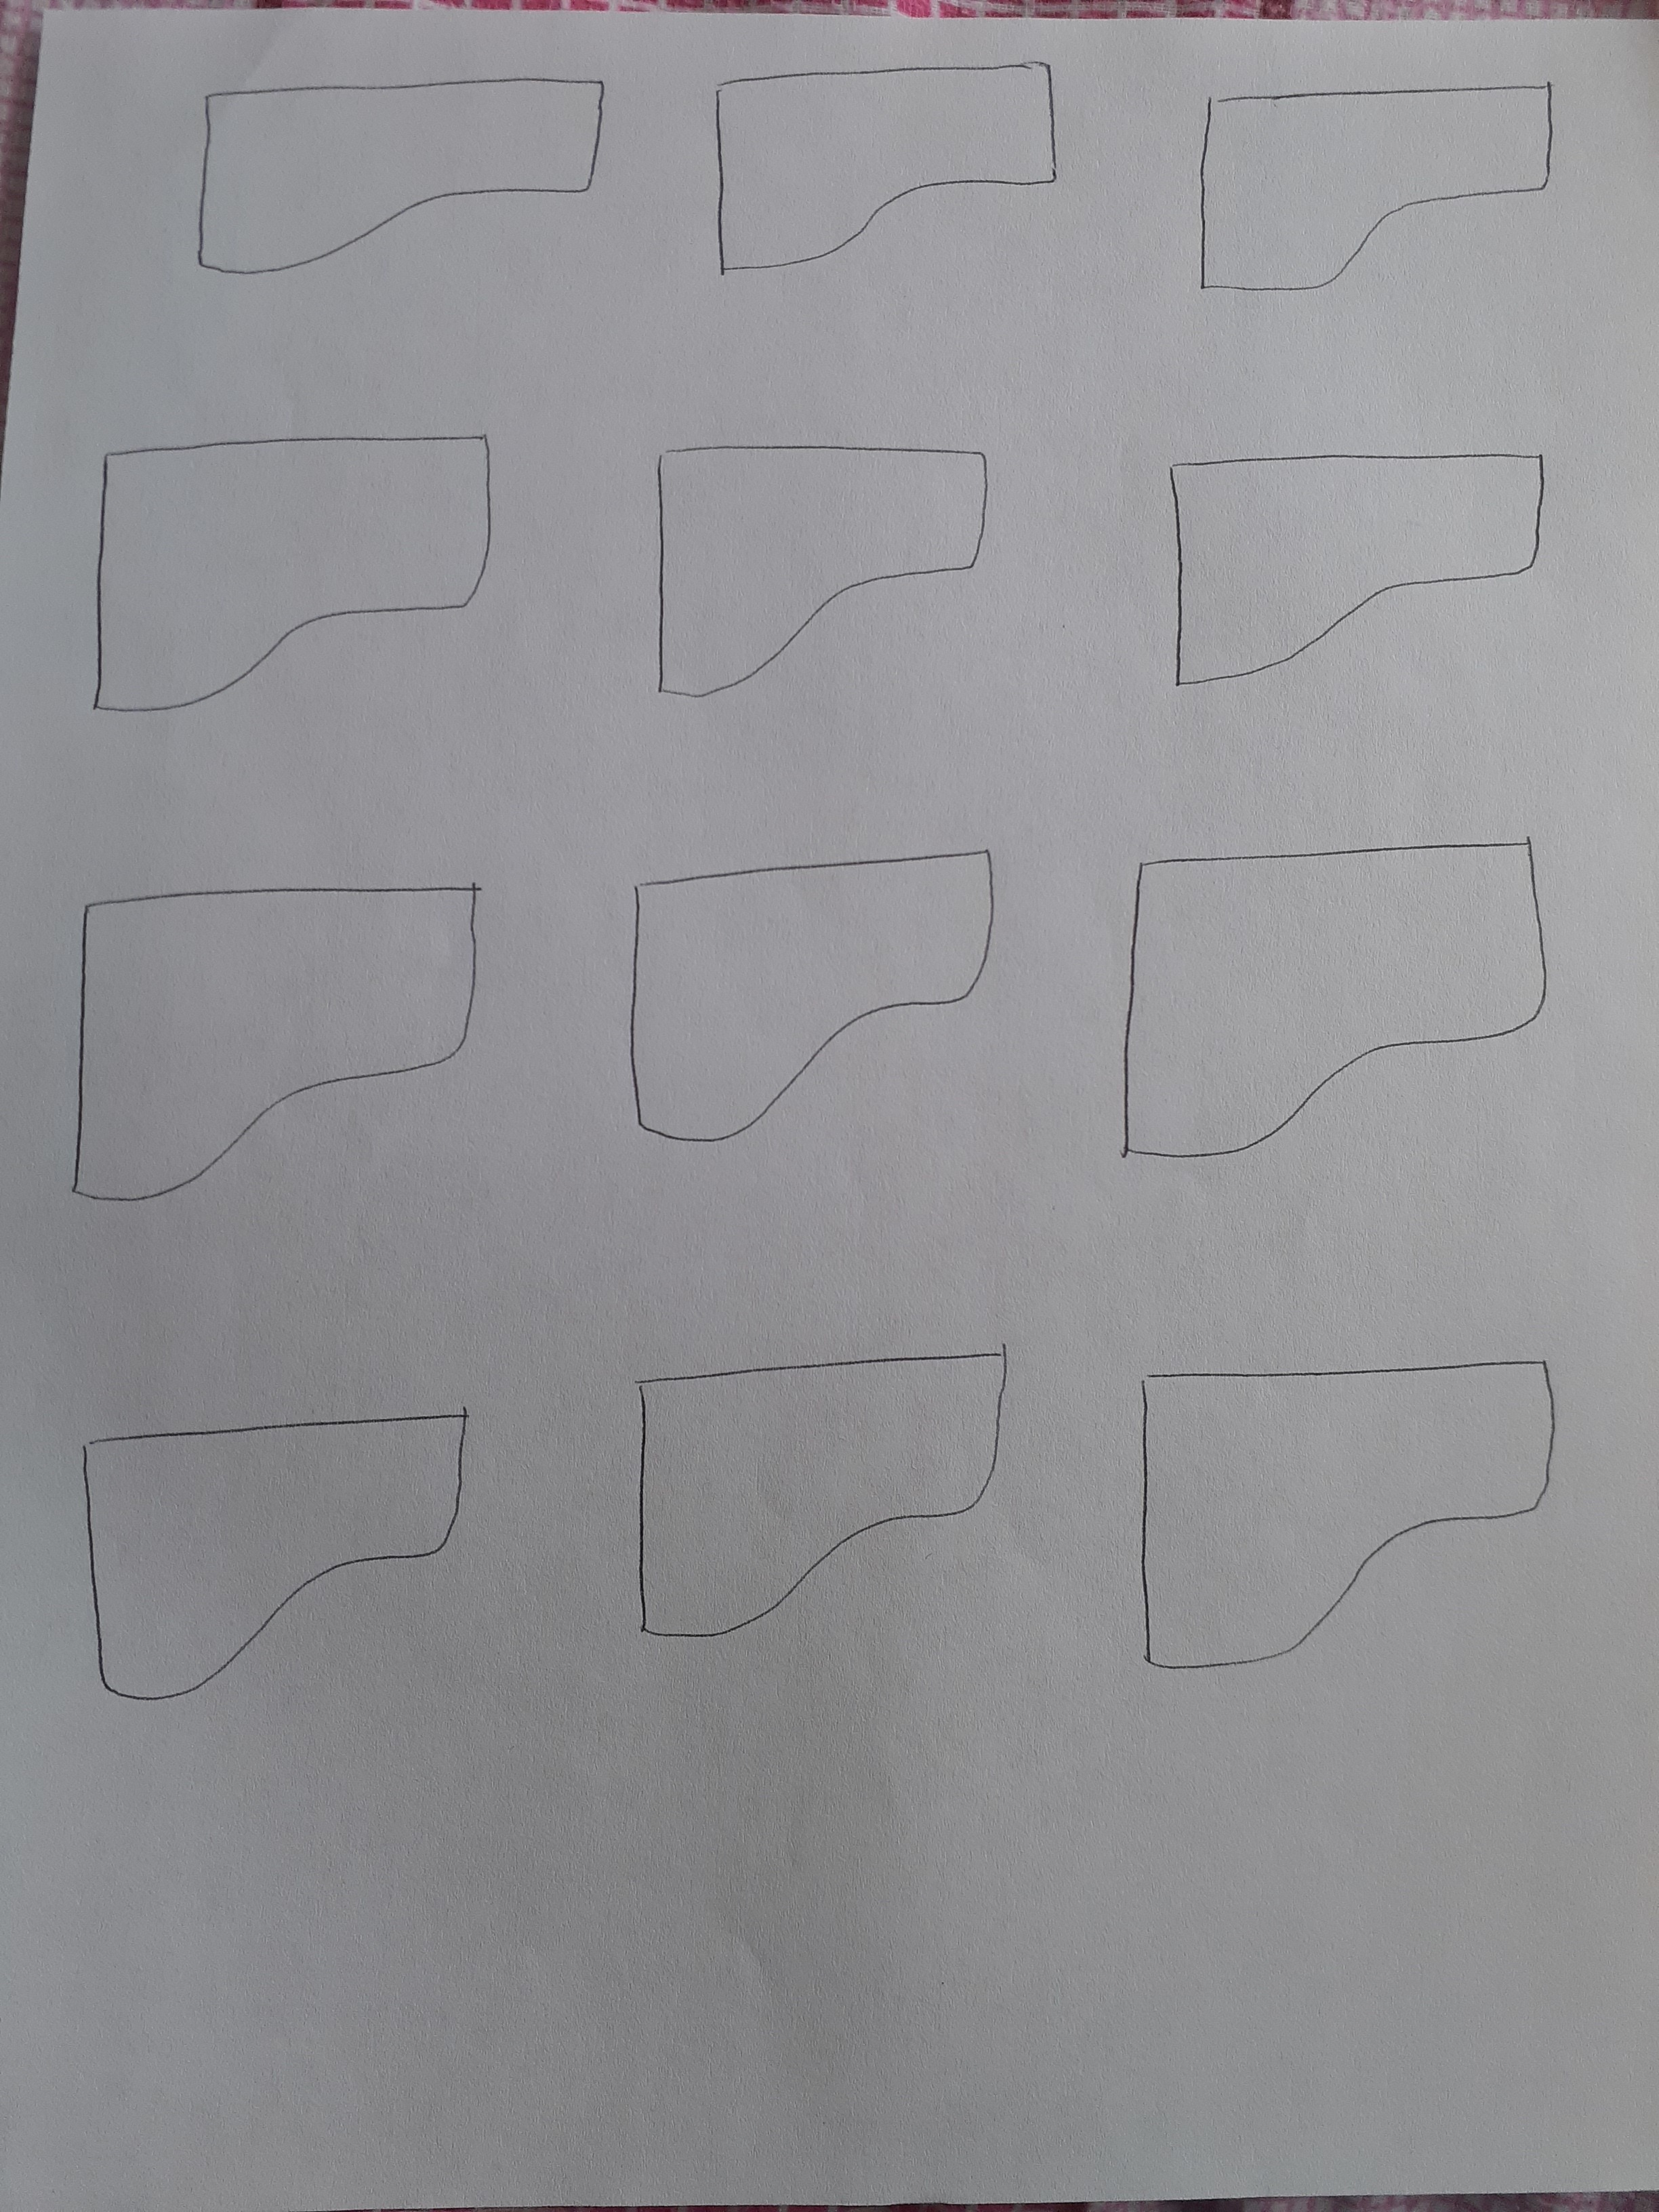print: (1086, 822, 1570, 1221), (1091, 1332, 1586, 1689), (624, 1296, 1028, 1683), (61, 859, 495, 1211), (601, 834, 1011, 1174), (1147, 394, 1586, 709), (64, 421, 512, 723), (58, 1404, 498, 1709), (617, 425, 1018, 712), (1166, 56, 1596, 320), (178, 42, 631, 286), (709, 49, 1075, 282)
